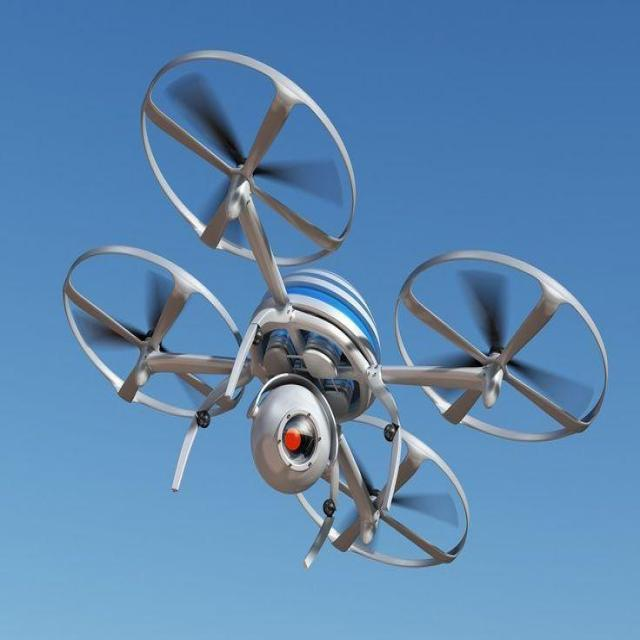drone: (61, 49, 610, 570)
